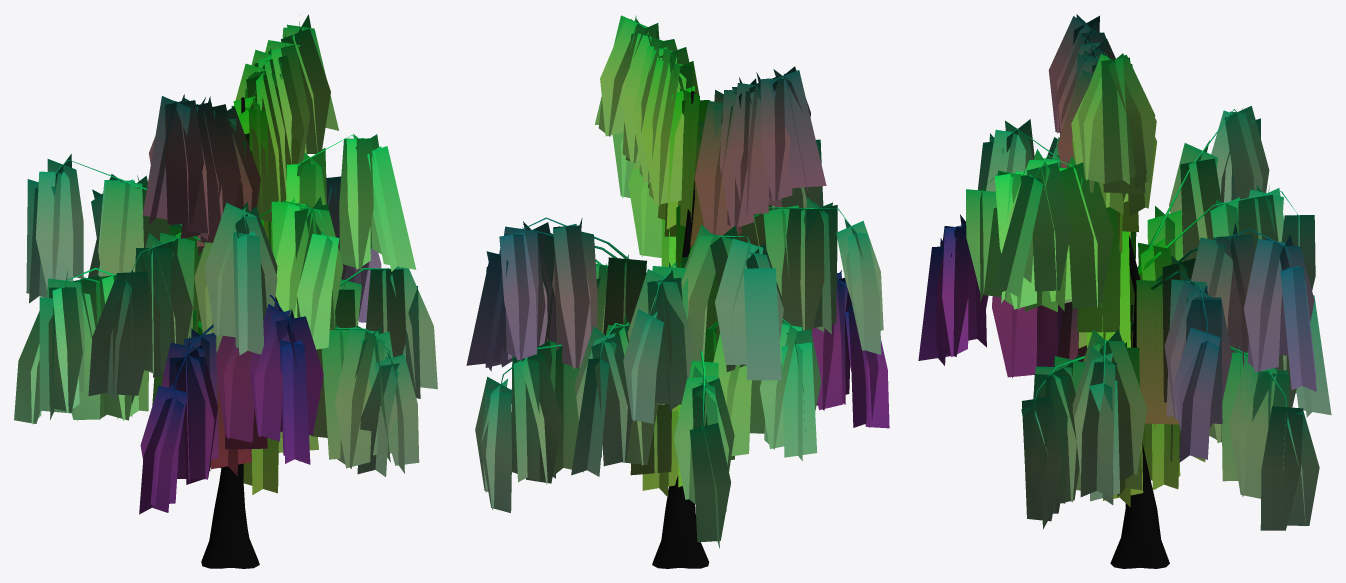
File: Tree_7_6.fbx
3 renders of one model, left to right at view 1: azimuth 30°, elevation 25°; view 2: azimuth 150°, elevation 25°; view 3: azimuth 270°, elevation 25°, orthographic. The views are drawn at different scales.
Parts seen in each view (by area): view 1: _6; view 2: _6; view 3: _6.
Part boxes in pixels (bbox=[...]): _6: bbox=[14, 14, 437, 568]; _6: bbox=[466, 15, 889, 568]; _6: bbox=[918, 14, 1331, 568].
Size of the model in its own units: 918 by 1334 by 933.
